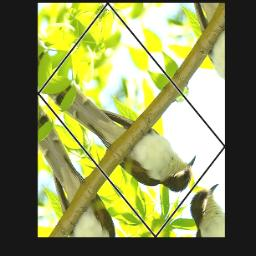Cuckoo: (44, 29, 204, 229)
